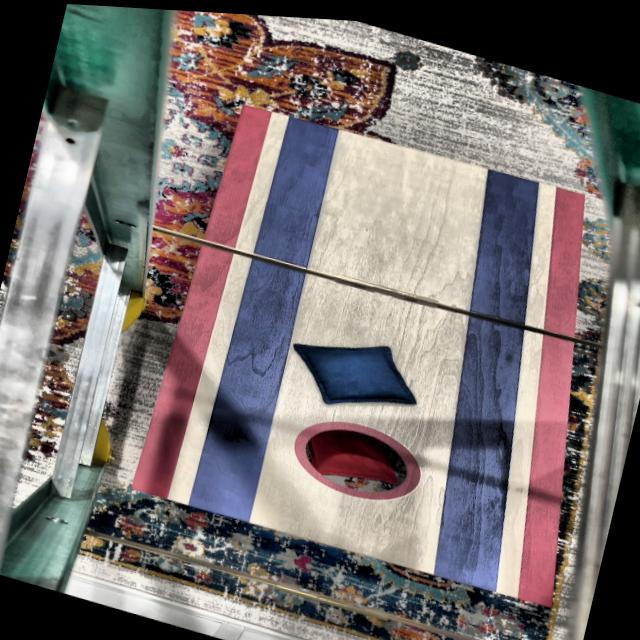blue-bean-bag: (280, 316, 424, 425)
board: (153, 96, 582, 588)
hole: (284, 402, 430, 509)
red-bean-bag-in-hole: (300, 414, 406, 491)
